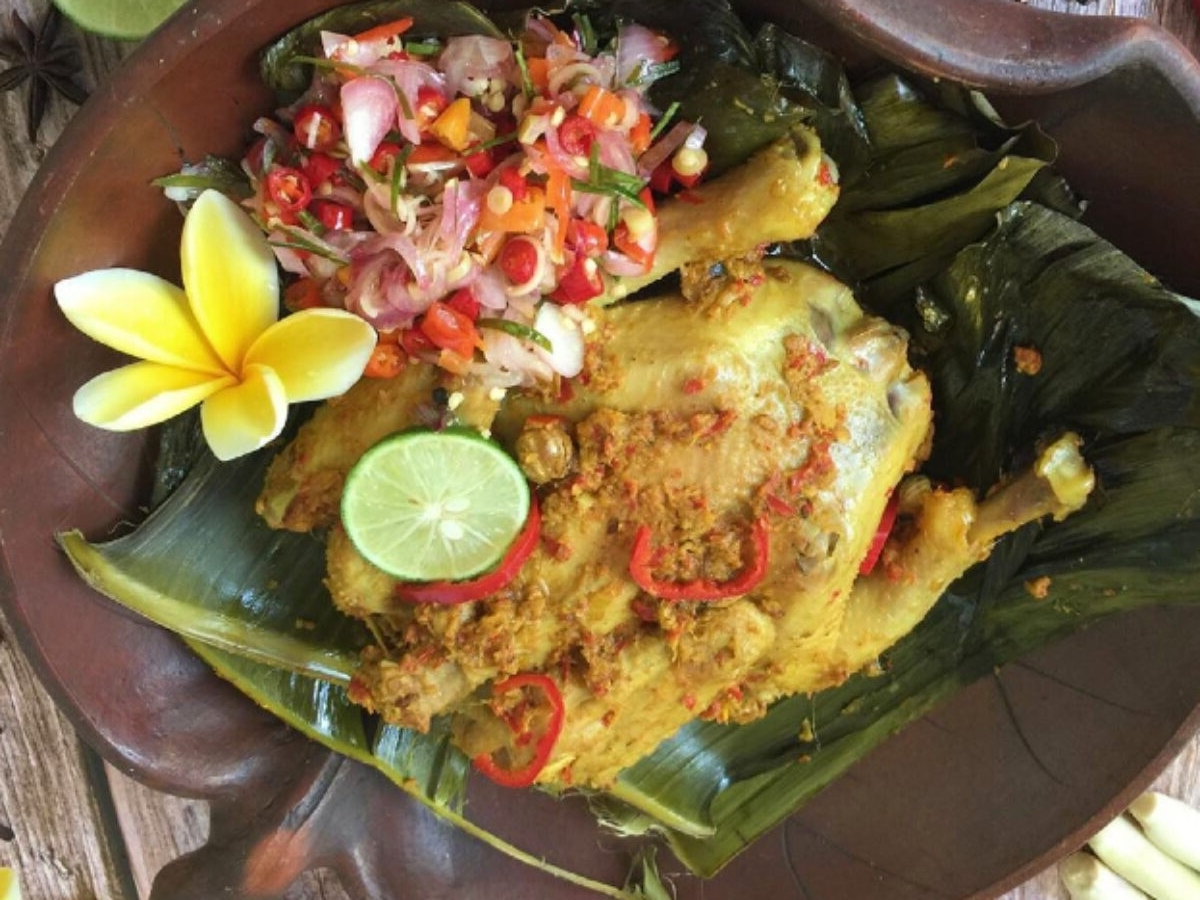ayam_betutu: (381, 131, 1091, 791)
